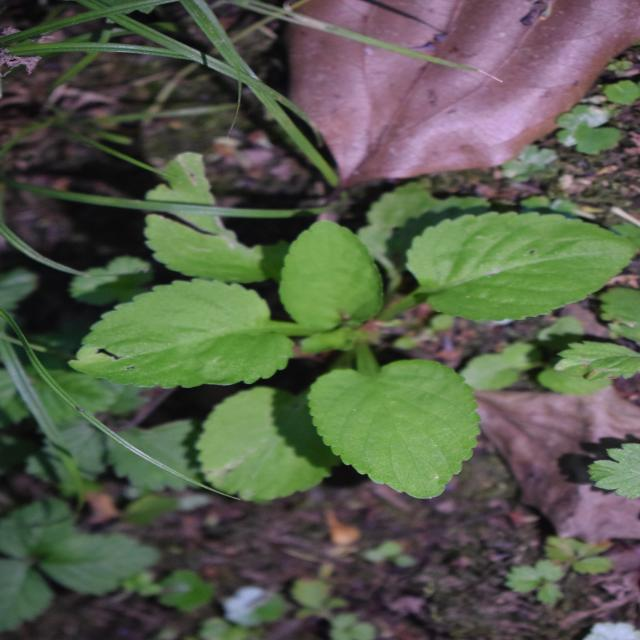Viola: (138, 92, 459, 594)
